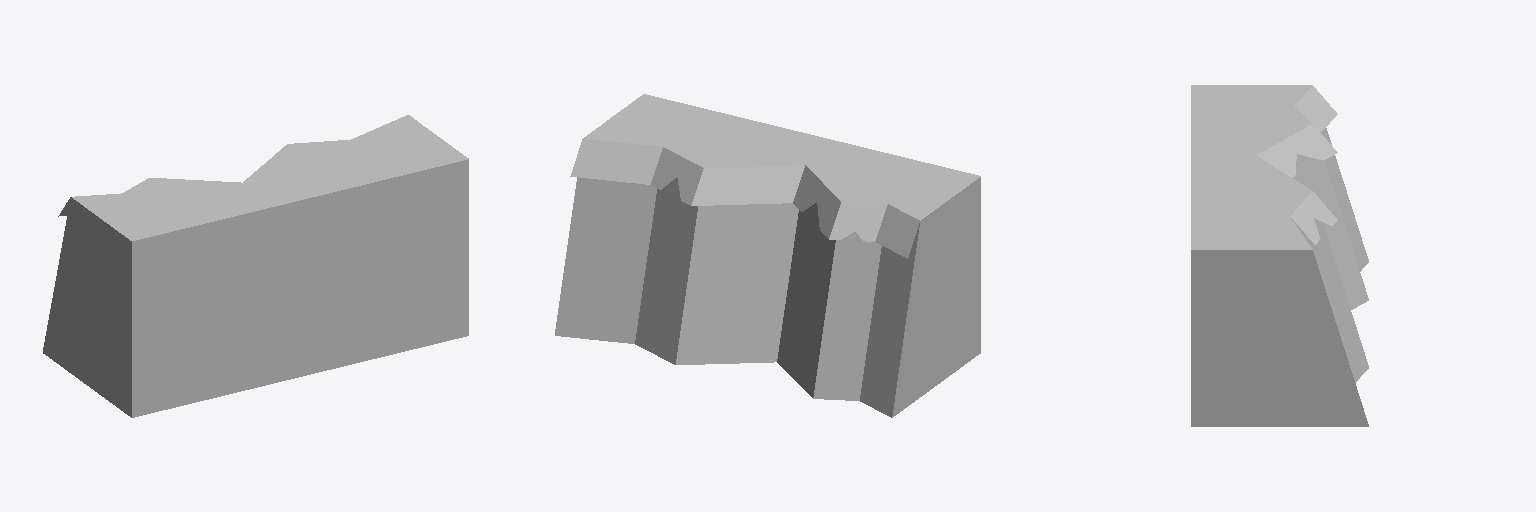
File: cliffGrey_half.obj
The picture shows the model from 3 angles: view 1: azimuth 30°, elevation 25°; view 2: azimuth 150°, elevation 25°; view 3: azimuth 270°, elevation 25°; orthographic projection.
Visible parts, largest first — view 1: cliffGrey_half; view 2: cliffGrey_half; view 3: cliffGrey_half.
Boxes of the visible parts, <box> form: cliffGrey_half: <box>43,115,468,417</box>; cliffGrey_half: <box>555,94,980,417</box>; cliffGrey_half: <box>1191,85,1368,426</box>.
Bounding box in the file's own units: 10 × 5 × 4.58.